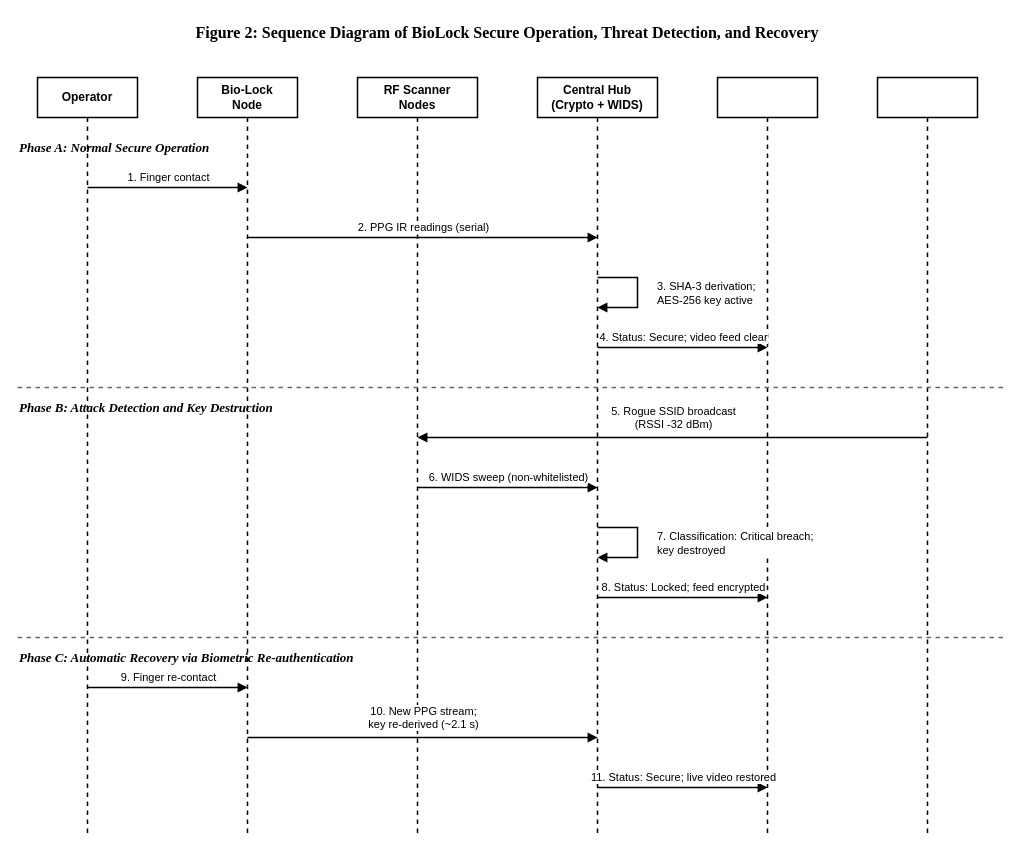
Some shapes in this 1027 by 855 pixel diagram are drawn without their labels. The box of each missing label's shape, as (x1, y1, x2, y2) in pixels:
Dashboard: (716, 76, 818, 838)
Rogue AP: (876, 76, 978, 838)
